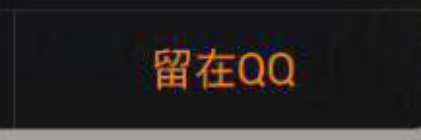Button: (1, 1, 420, 139)
